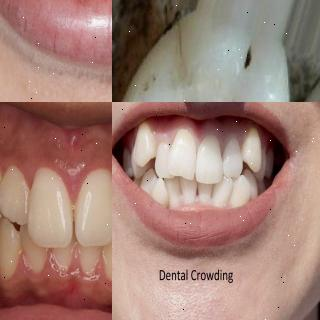cavities: (240, 46, 254, 68)
maligned: (0, 218, 23, 286), (168, 132, 196, 178), (242, 123, 269, 168), (152, 140, 178, 177), (135, 126, 160, 157), (215, 174, 233, 208), (231, 174, 250, 206), (164, 172, 183, 202), (152, 178, 172, 204), (104, 220, 112, 277)
